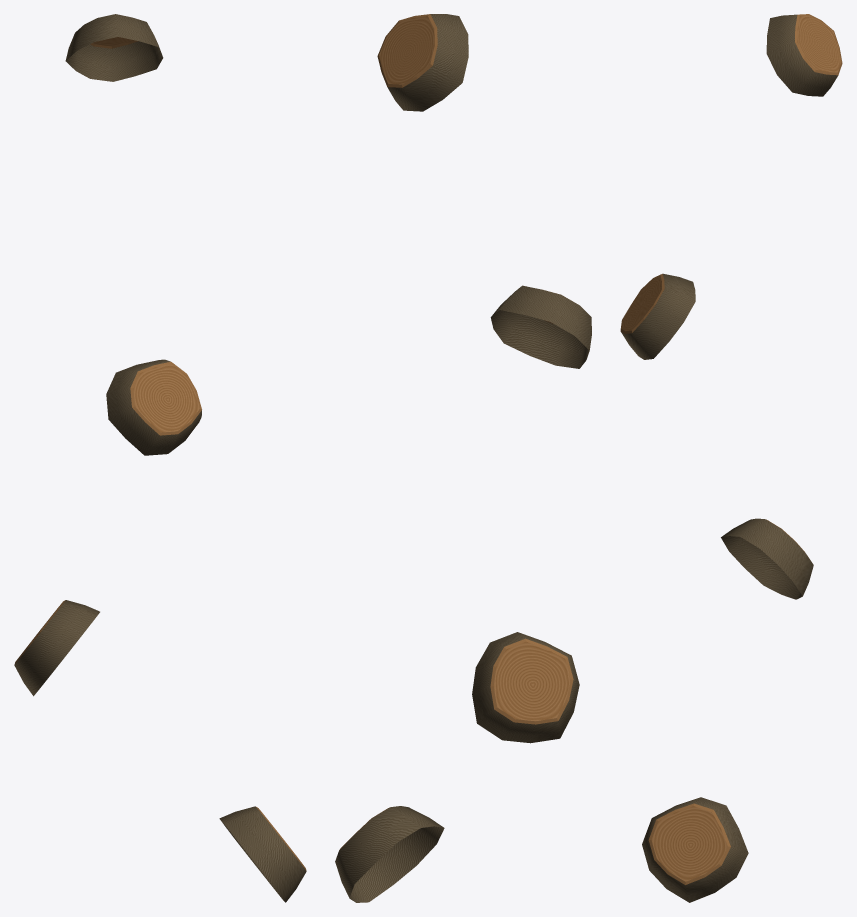
The model's file is Sessile_Oak_Young_01_MediumPruned_Recent_LOD2.fbx.
The picture shows the model from 3 angles, left to right: view 1: azimuth 30°, elevation 25°; view 2: azimuth 150°, elevation 25°; view 3: azimuth 270°, elevation 25°; orthographic projection. The views are drawn at different scales.
Visible parts, largest first — view 1: Sessile_Oak_Young_01_MediumPruned_Recent_LOD2_Scars; view 2: Sessile_Oak_Young_01_MediumPruned_Recent_LOD2_Scars; view 3: Sessile_Oak_Young_01_MediumPruned_Recent_LOD2_Scars.
Part boxes in pixels (x1,y1,x2,y2): Sessile_Oak_Young_01_MediumPruned_Recent_LOD2_Scars: (14,14,306,902); Sessile_Oak_Young_01_MediumPruned_Recent_LOD2_Scars: (335,14,591,902); Sessile_Oak_Young_01_MediumPruned_Recent_LOD2_Scars: (620,14,842,902).
Size of what is drawn, in the model's own units: 25.43 by 87.8 by 21.14.
Materials: 2 (2 with a texture image).
